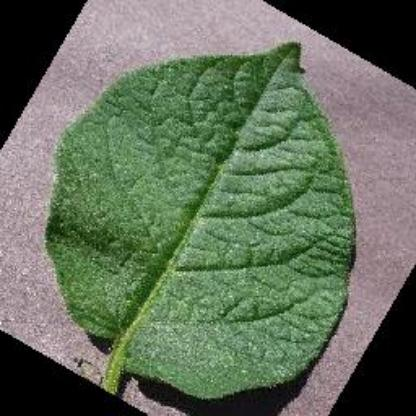Healthy-plant: (18, 24, 391, 408)
